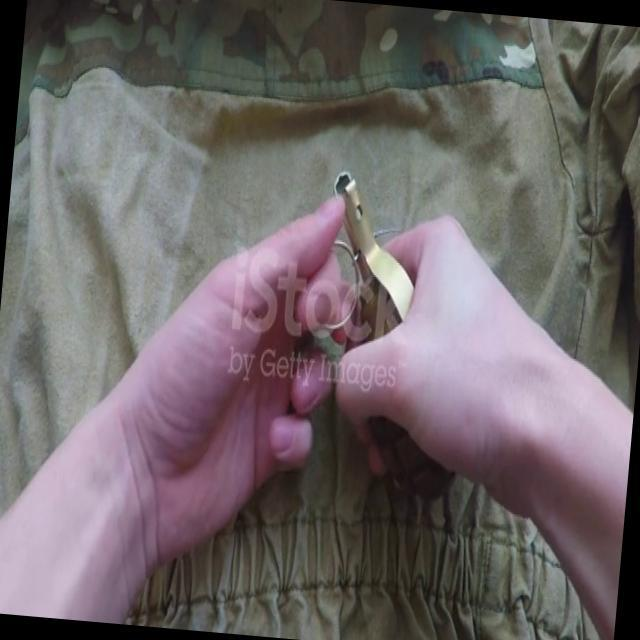grenade: (307, 170, 483, 500)
